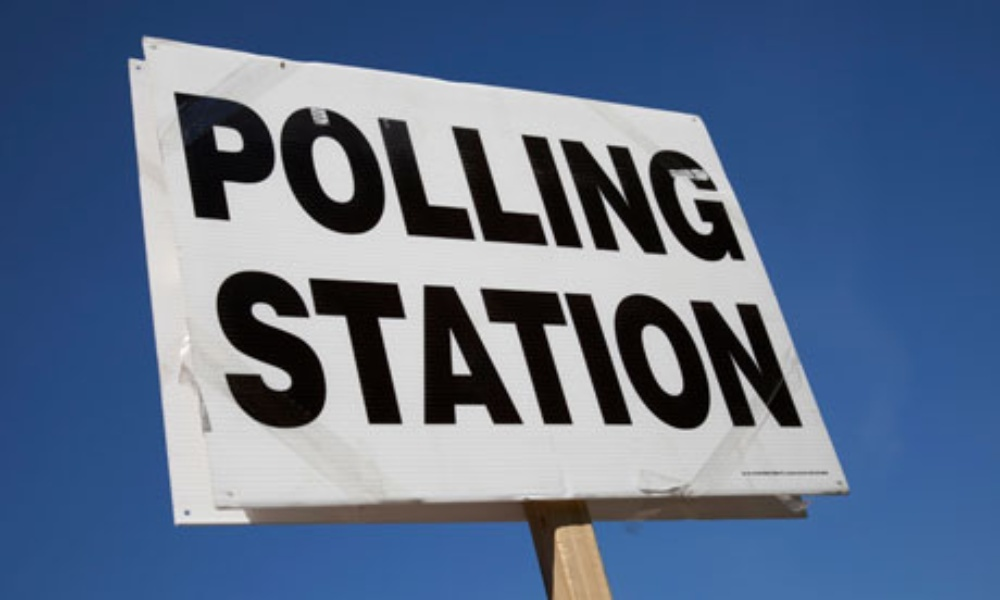text: (737, 90, 753, 266), (177, 90, 192, 266), (193, 90, 208, 266), (209, 90, 224, 266), (225, 90, 240, 266), (241, 90, 256, 266), (257, 90, 272, 266), (273, 90, 288, 266), (289, 90, 304, 266), (305, 90, 320, 266), (321, 90, 336, 266), (337, 90, 352, 266), (353, 90, 368, 266), (369, 90, 384, 266), (385, 90, 400, 266), (401, 90, 416, 266), (417, 90, 432, 266), (433, 90, 448, 266), (449, 90, 464, 266), (465, 90, 480, 266), (481, 90, 496, 266), (497, 90, 512, 266), (513, 90, 528, 266), (529, 90, 544, 266), (545, 90, 560, 266), (561, 90, 576, 266), (577, 90, 592, 266), (593, 90, 608, 266), (609, 90, 624, 266), (625, 90, 640, 266), (641, 90, 656, 266), (657, 90, 672, 266), (673, 90, 688, 266), (689, 90, 704, 266), (705, 90, 720, 266), (721, 90, 736, 266), (209, 266, 224, 429), (225, 266, 240, 429), (241, 266, 256, 429), (257, 266, 272, 429), (273, 266, 288, 429), (289, 266, 304, 429), (305, 266, 320, 429), (321, 266, 336, 429), (337, 266, 352, 429), (353, 266, 368, 429), (369, 266, 384, 429), (385, 266, 400, 429), (401, 266, 416, 429), (417, 266, 432, 429), (433, 266, 448, 429), (449, 266, 464, 429), (465, 266, 480, 429), (481, 266, 496, 429), (497, 266, 512, 429), (513, 266, 528, 429), (529, 266, 544, 429), (545, 266, 560, 429), (561, 266, 576, 429), (577, 266, 592, 429), (593, 266, 608, 429), (609, 266, 624, 429), (625, 266, 640, 429), (641, 266, 656, 429), (657, 266, 672, 429), (673, 266, 688, 429), (689, 266, 704, 429), (705, 266, 720, 429), (721, 266, 736, 429), (737, 266, 752, 429), (753, 266, 768, 429), (769, 266, 784, 429), (785, 266, 800, 429), (170, 90, 176, 266), (801, 266, 805, 429)
